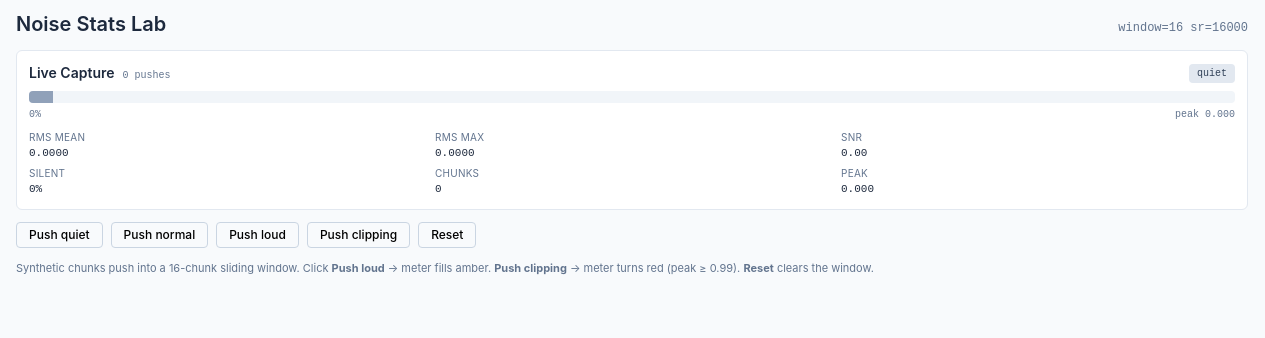
Test: NoiseStatsLabPage › flips the level chip to clipping after pushing a saturated chunk
Step 1. Click the button with test id "ns-lab-push-clipping" → (359, 235), box [307,222,410,248]
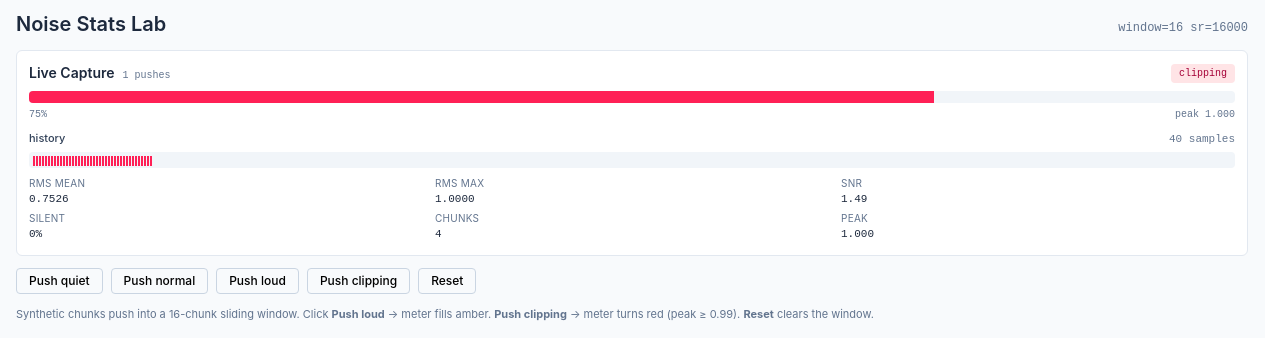
Expected: the text "clipping" is shown, [1171,64,1235,82]
